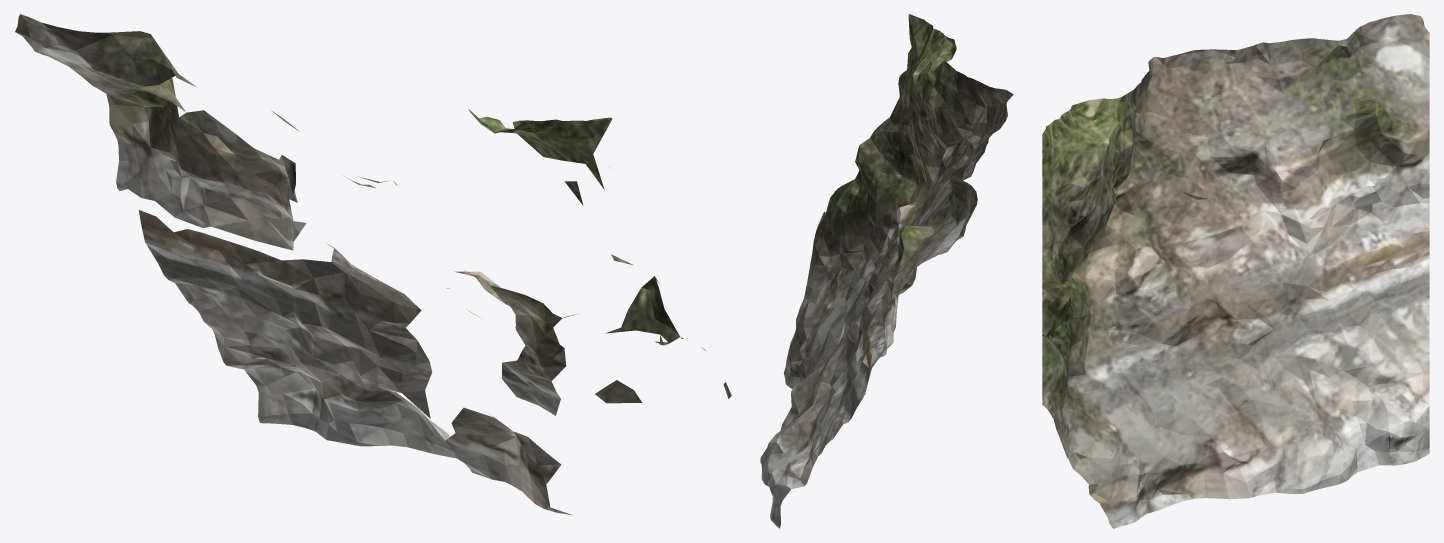
3 views of the same model, side by side, from view 1: azimuth 30°, elevation 25°; view 2: azimuth 150°, elevation 25°; view 3: azimuth 270°, elevation 25° (orthographic). The views are drawn at different scales.
Bounding box in the file's own units: 2.95 × 2.95 × 2.95.
Materials: 3 (3 with a texture image).
